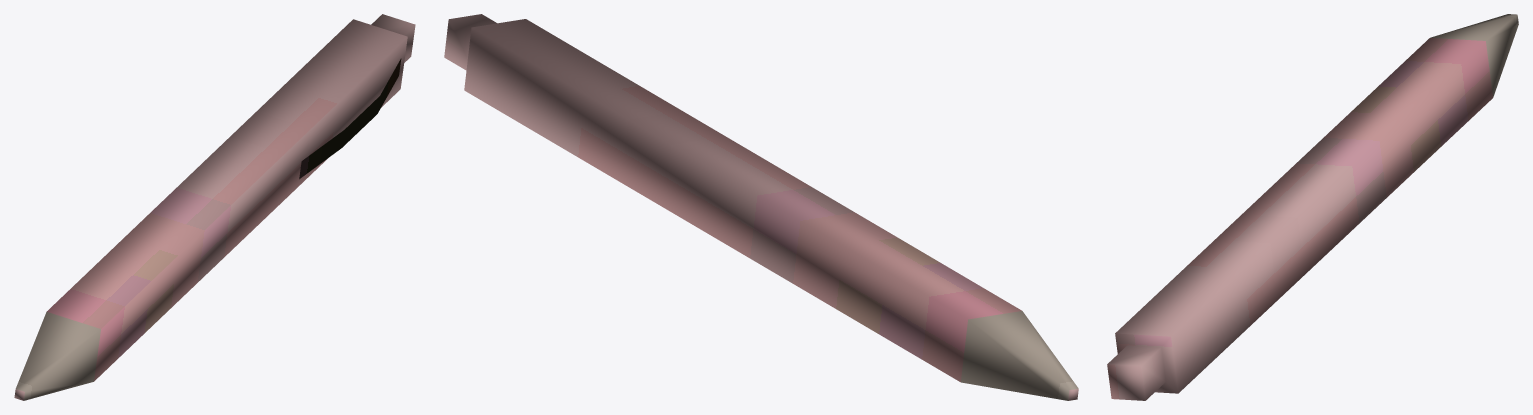
The model's file is pen4.obj.
3 renders of one model, left to right at view 1: azimuth 90°, elevation 25°; view 2: azimuth 150°, elevation 25°; view 3: azimuth 270°, elevation 25°, orthographic. The views are drawn at different scales.
Visible parts, largest first — view 1: pen4; view 2: pen4; view 3: pen4.
Part boxes in pixels (box(x1,y1,x2,y2)): pen4: box(14, 14, 415, 400); pen4: box(444, 14, 1078, 400); pen4: box(1107, 14, 1518, 400).
Size of the model in its own units: 0.2213 by 0.0181 by 0.1038.
